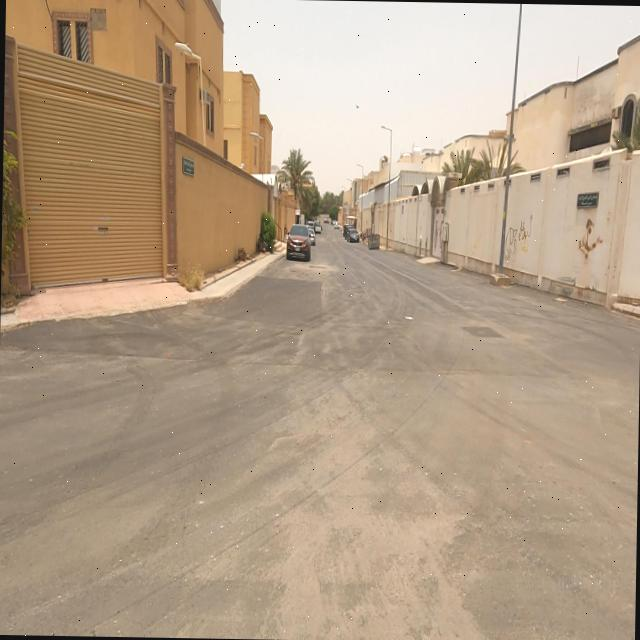Graffiti: (506, 207, 535, 264), (577, 215, 606, 266)
